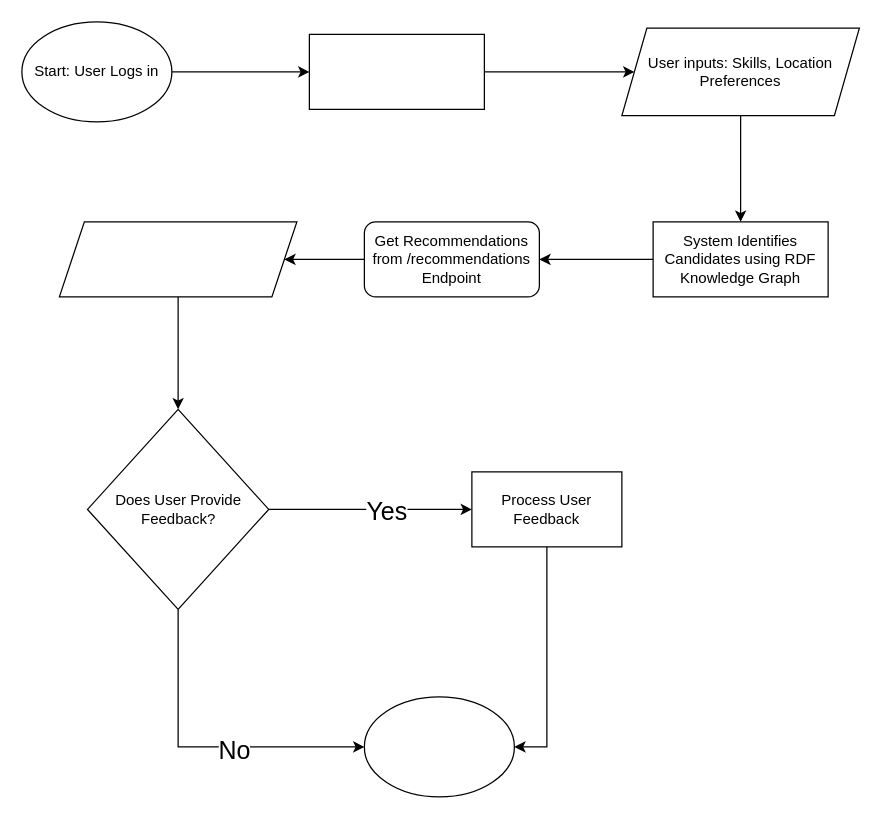
Image size: 881x819. Some labels were removed from this diagram. Each missing label, with the centre of its shape:
"Display Recommendations in Frontend" belongs at (x=177, y=259).
"Process complete" belongs at (x=438, y=746).
"User gives access to data" belongs at (x=396, y=71).
